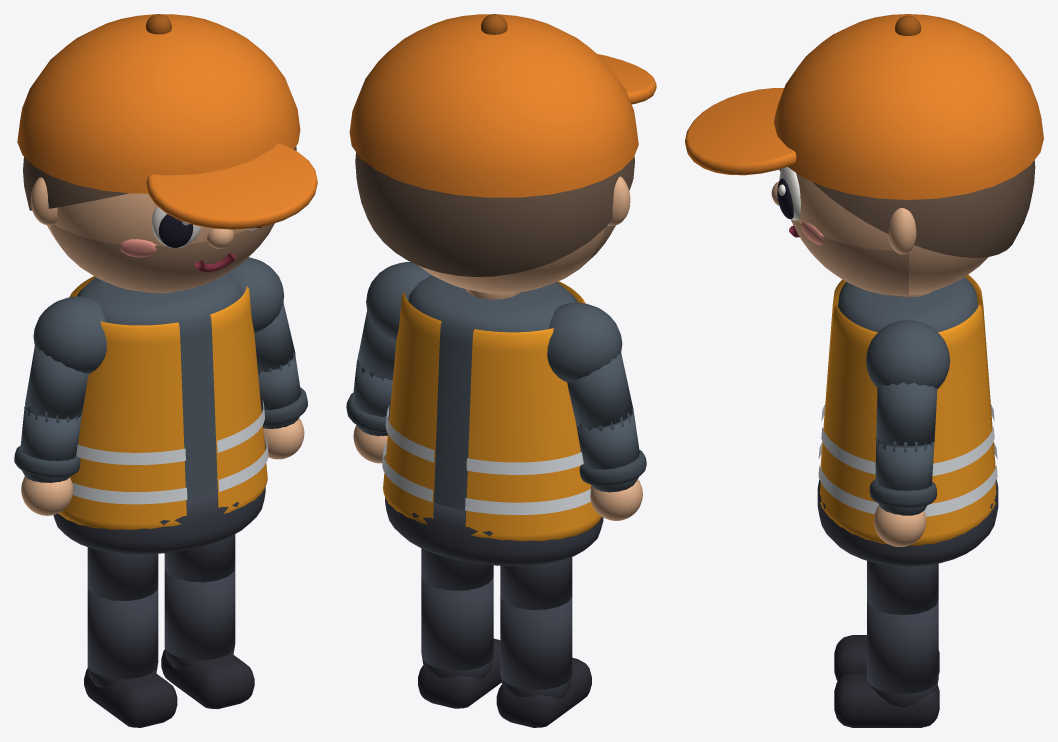
The model's file is ch_brigadier.fbx.
The picture shows the model from 3 angles, left to right: view 1: azimuth 30°, elevation 25°; view 2: azimuth 150°, elevation 25°; view 3: azimuth 270°, elevation 25°; orthographic projection. The views are drawn at different scales.
Parts seen in each view (by area): view 1: ch_brigadier; view 2: ch_brigadier; view 3: ch_brigadier.
Part boxes in pixels (<box>): ch_brigadier: <box>14,14,317,727</box>; ch_brigadier: <box>346,14,656,727</box>; ch_brigadier: <box>685,14,1043,727</box>.
Bounding box in the file's own units: 0.7038 × 1.6 × 0.762.
